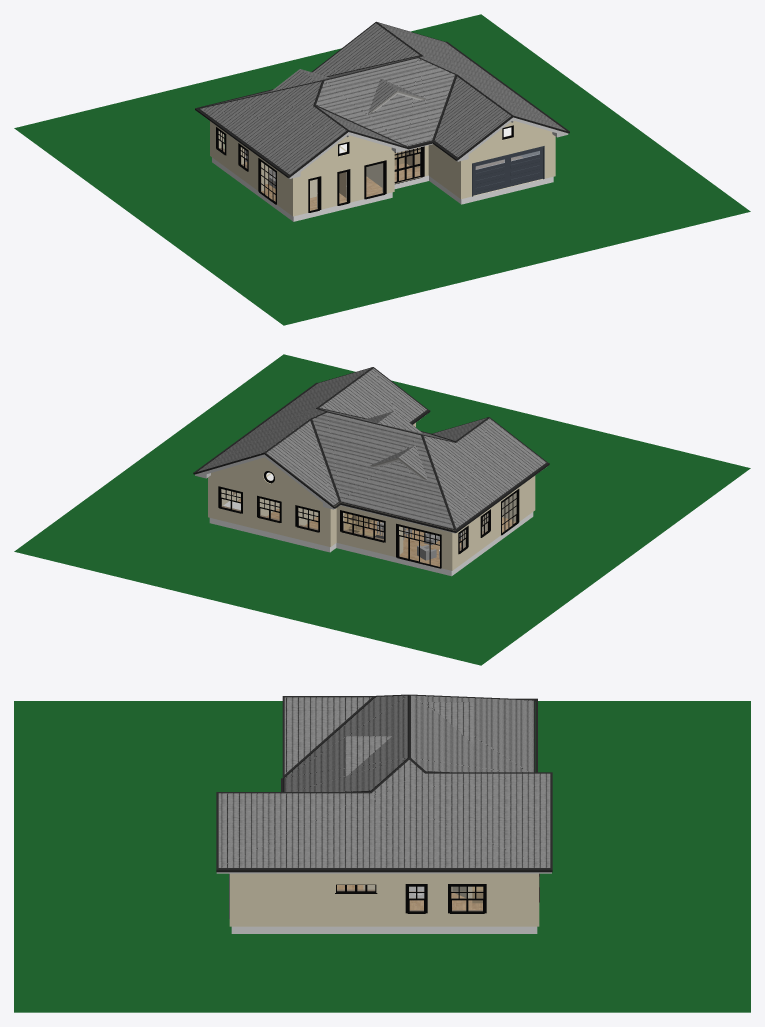
3 views of the same model, one above another, from view 1: azimuth 30°, elevation 25°; view 2: azimuth 150°, elevation 25°; view 3: azimuth 270°, elevation 25° (orthographic). The views are drawn at different scales.
Visible parts, largest first — view 1: site, 001.roof, Wall.009, Window, Slab, 002._underroof, Floor; view 2: site, 001.roof, Wall.009, Window, Slab, Floor, 002._underroof; view 3: site, 001.roof, Wall.009, Slab, Window, 002._underroof, Floor.
Part boxes in pixels (x1,y1,x2,y2): site: (14,14,750,325); 001.roof: (195,21,569,177); Wall.009: (210,121,555,216); Window: (216,125,544,212); Slab: (212,157,553,221); 002._underroof: (213,117,568,178); Floor: (245,154,522,210); site: (14,354,750,665); 001.roof: (193,367,549,532); Wall.009: (208,423,535,570); Window: (218,471,519,568); Slab: (209,512,533,576); Floor: (236,498,515,566); 002._underroof: (195,415,546,533); site: (14,701,750,1012); 001.roof: (216,694,552,872); Wall.009: (229,873,539,926); Slab: (231,926,537,933); Window: (229,873,539,918); 002._underroof: (216,872,551,873); Floor: (337,885,482,909).
Size of the model in its own units: 40 by 7.75 by 40.
26 materials, 2 textured.
